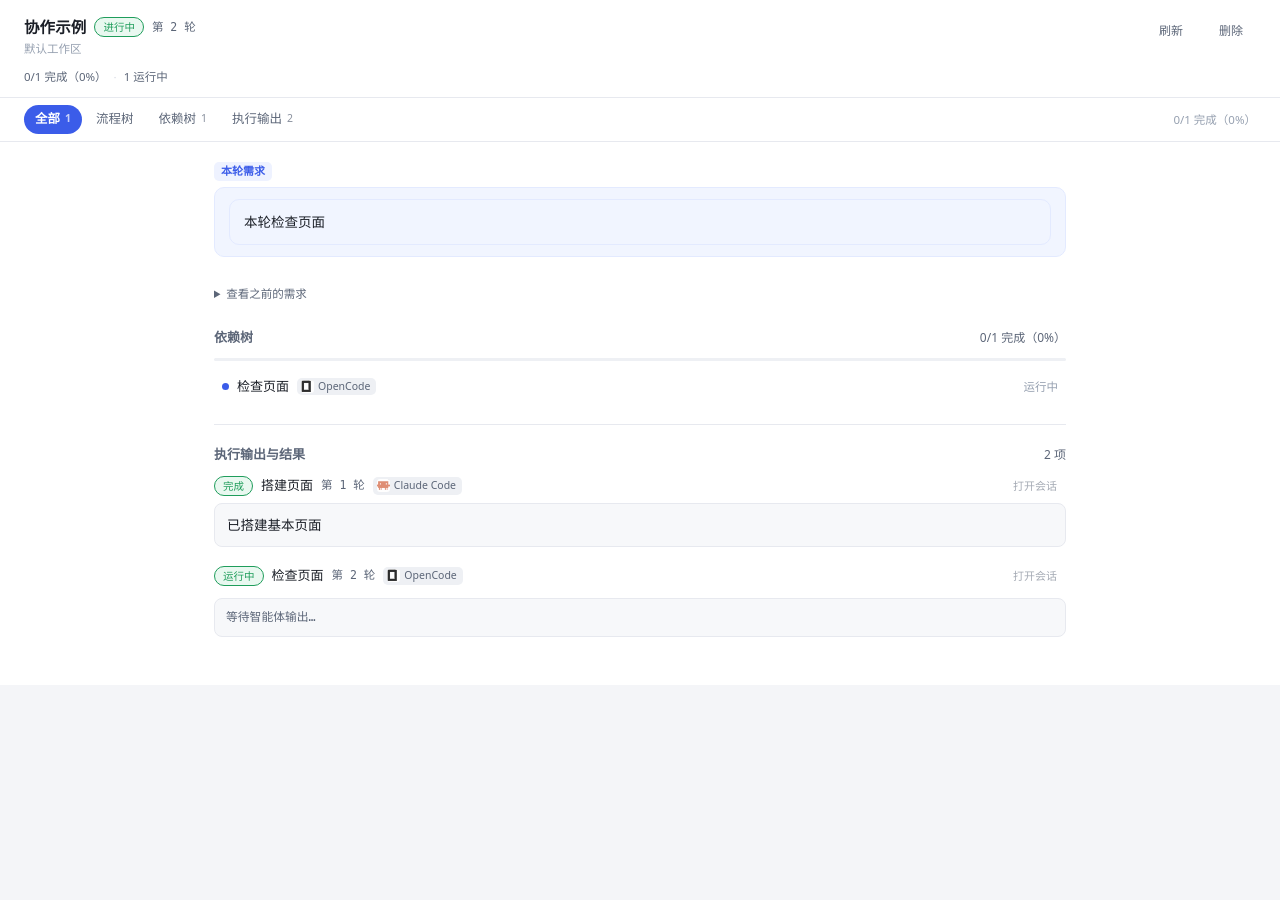
it: shows the workflow by round and keeps dependencies in a separate view
Click the tab "流程树" at (115, 119), box [85,105,144,134]
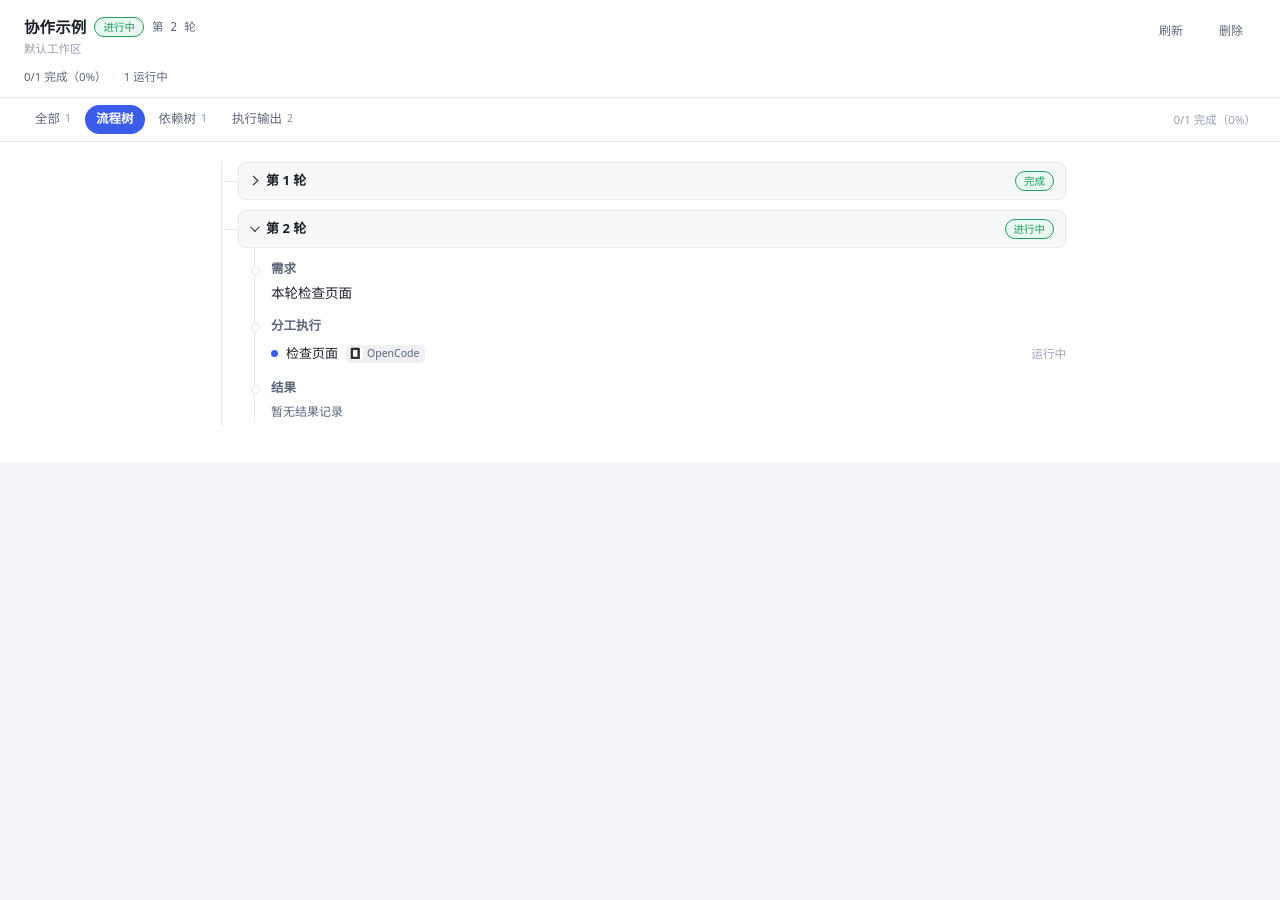
Expected: the text "本轮检查页面" is shown, [271,284,352,302]
Expected: the list item "检查页面" shows "运行中", [1032,346,1066,361]
Click the button "第 1 轮 完成" at (1034, 181), box [238,162,1066,200]
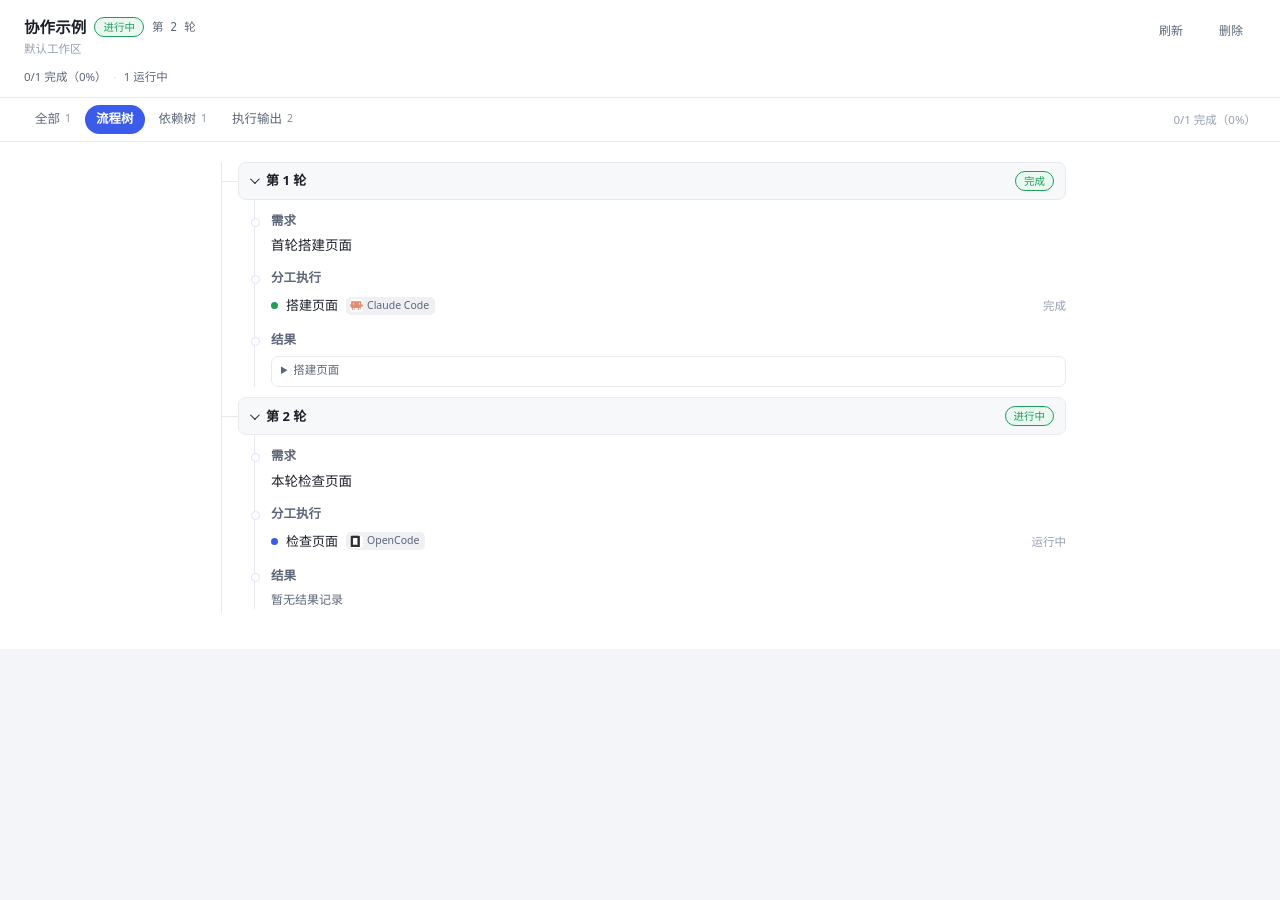
Result: the button "第 1 轮 完成" is expanded at [238,162,1066,200]
Result: the text "首轮搭建页面" is shown at [271,236,352,254]
Click the heading "搭建页面" at (316, 370), box [293,362,339,377]
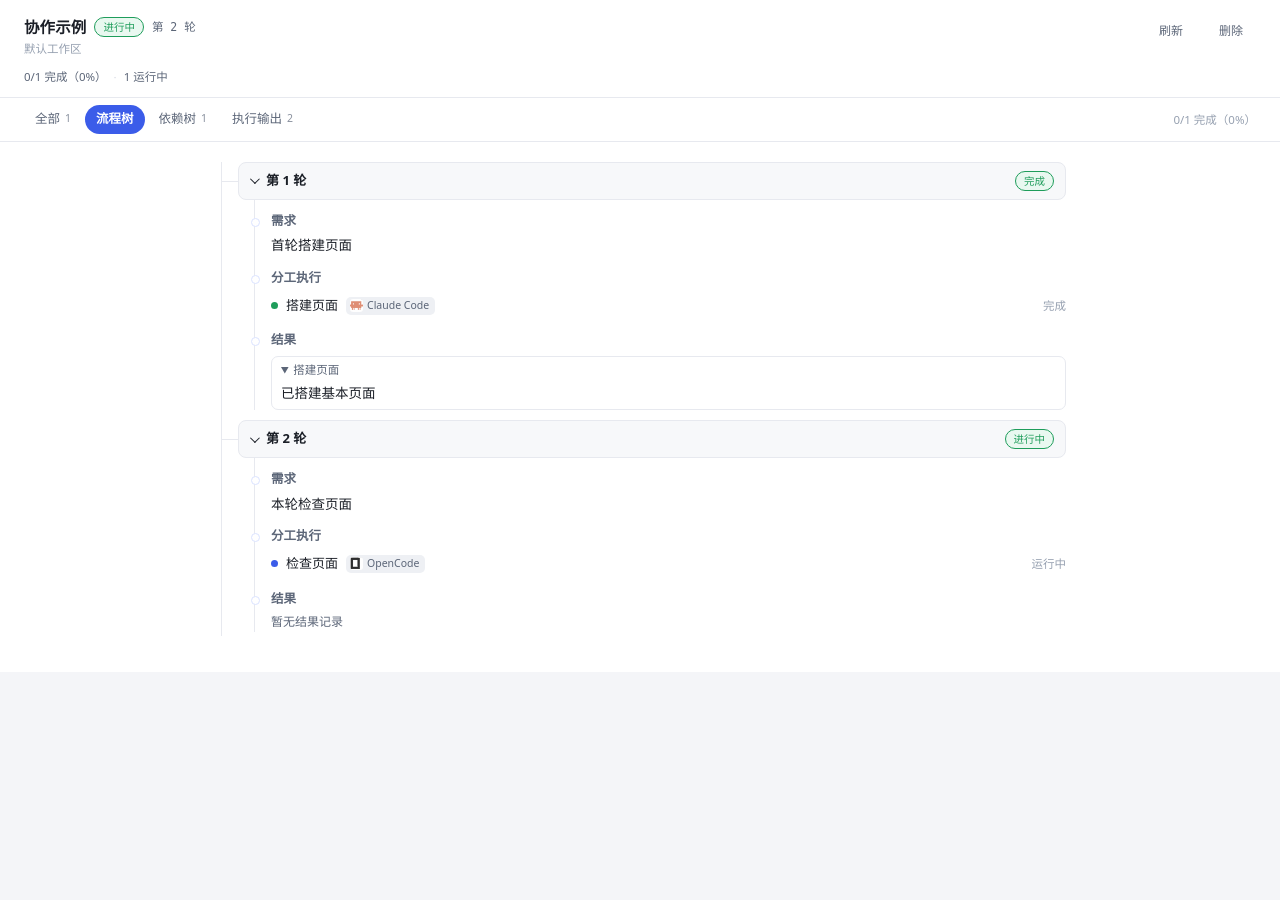
Result: the text "已搭建基本页面" is shown at [281,384,376,402]
Click the tab "依赖树 1" at (183, 119), box [148,105,218,134]
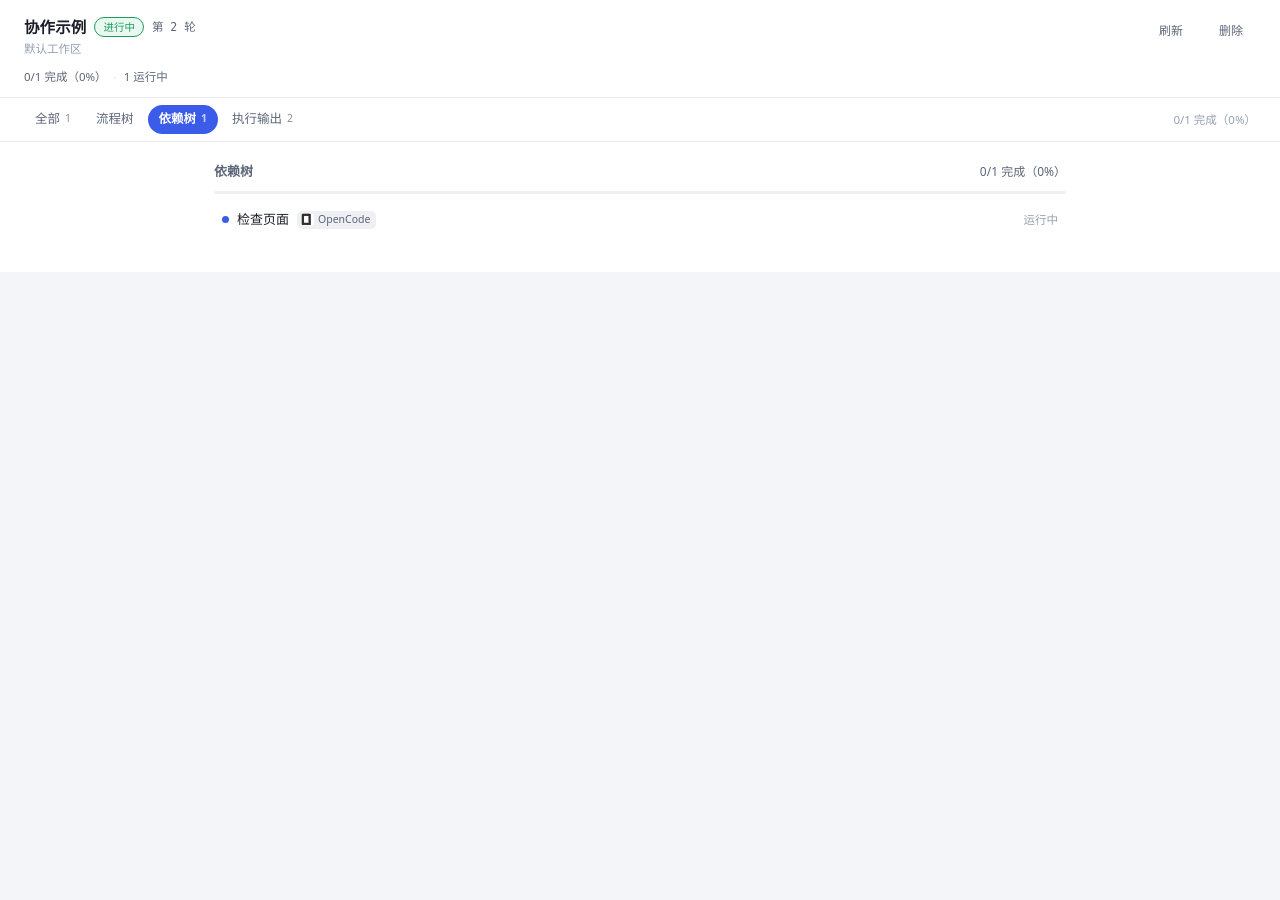
Result: the heading "依赖树" is shown at [214,162,253,181]
Result: the element "协作流程树" is gone
